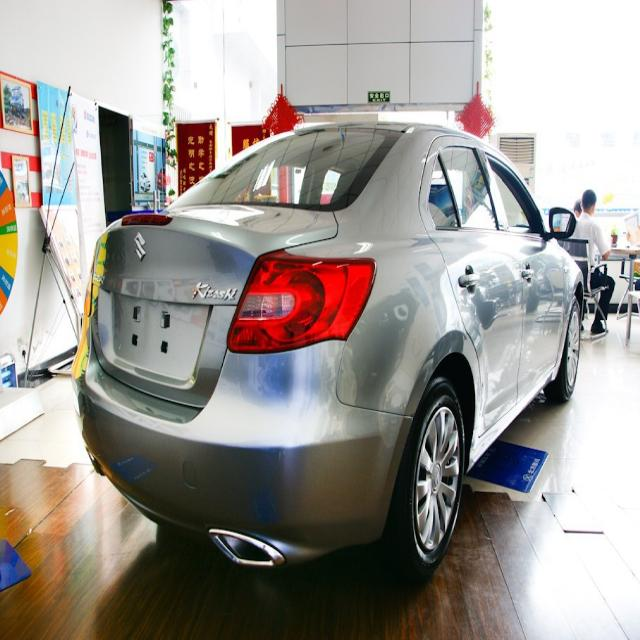back_glass: (166, 125, 401, 212)
back_left_side_light: (80, 251, 96, 317)
back_right_side_light: (226, 245, 379, 355)
door: (422, 141, 525, 414)
front_right_side_door: (478, 140, 567, 410)
front_right_side_mirror: (546, 206, 578, 242)
rear_bumper: (67, 311, 421, 555)
wheel: (372, 369, 466, 584), (541, 298, 582, 401)
